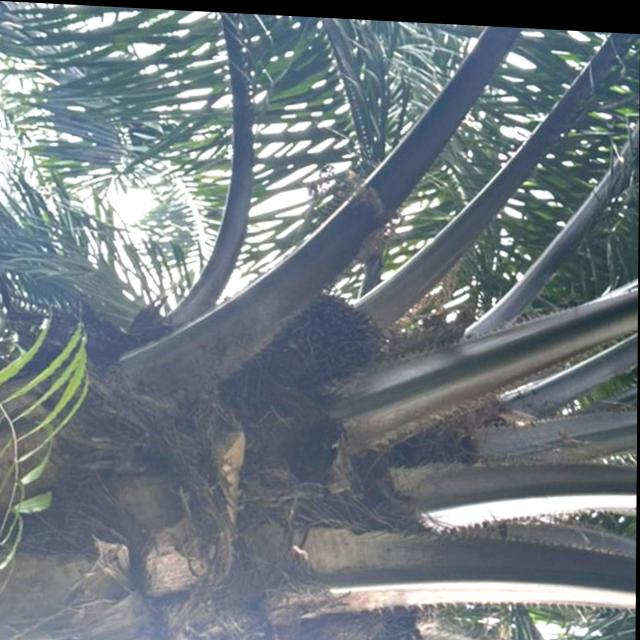unripe: (284, 278, 390, 386)
